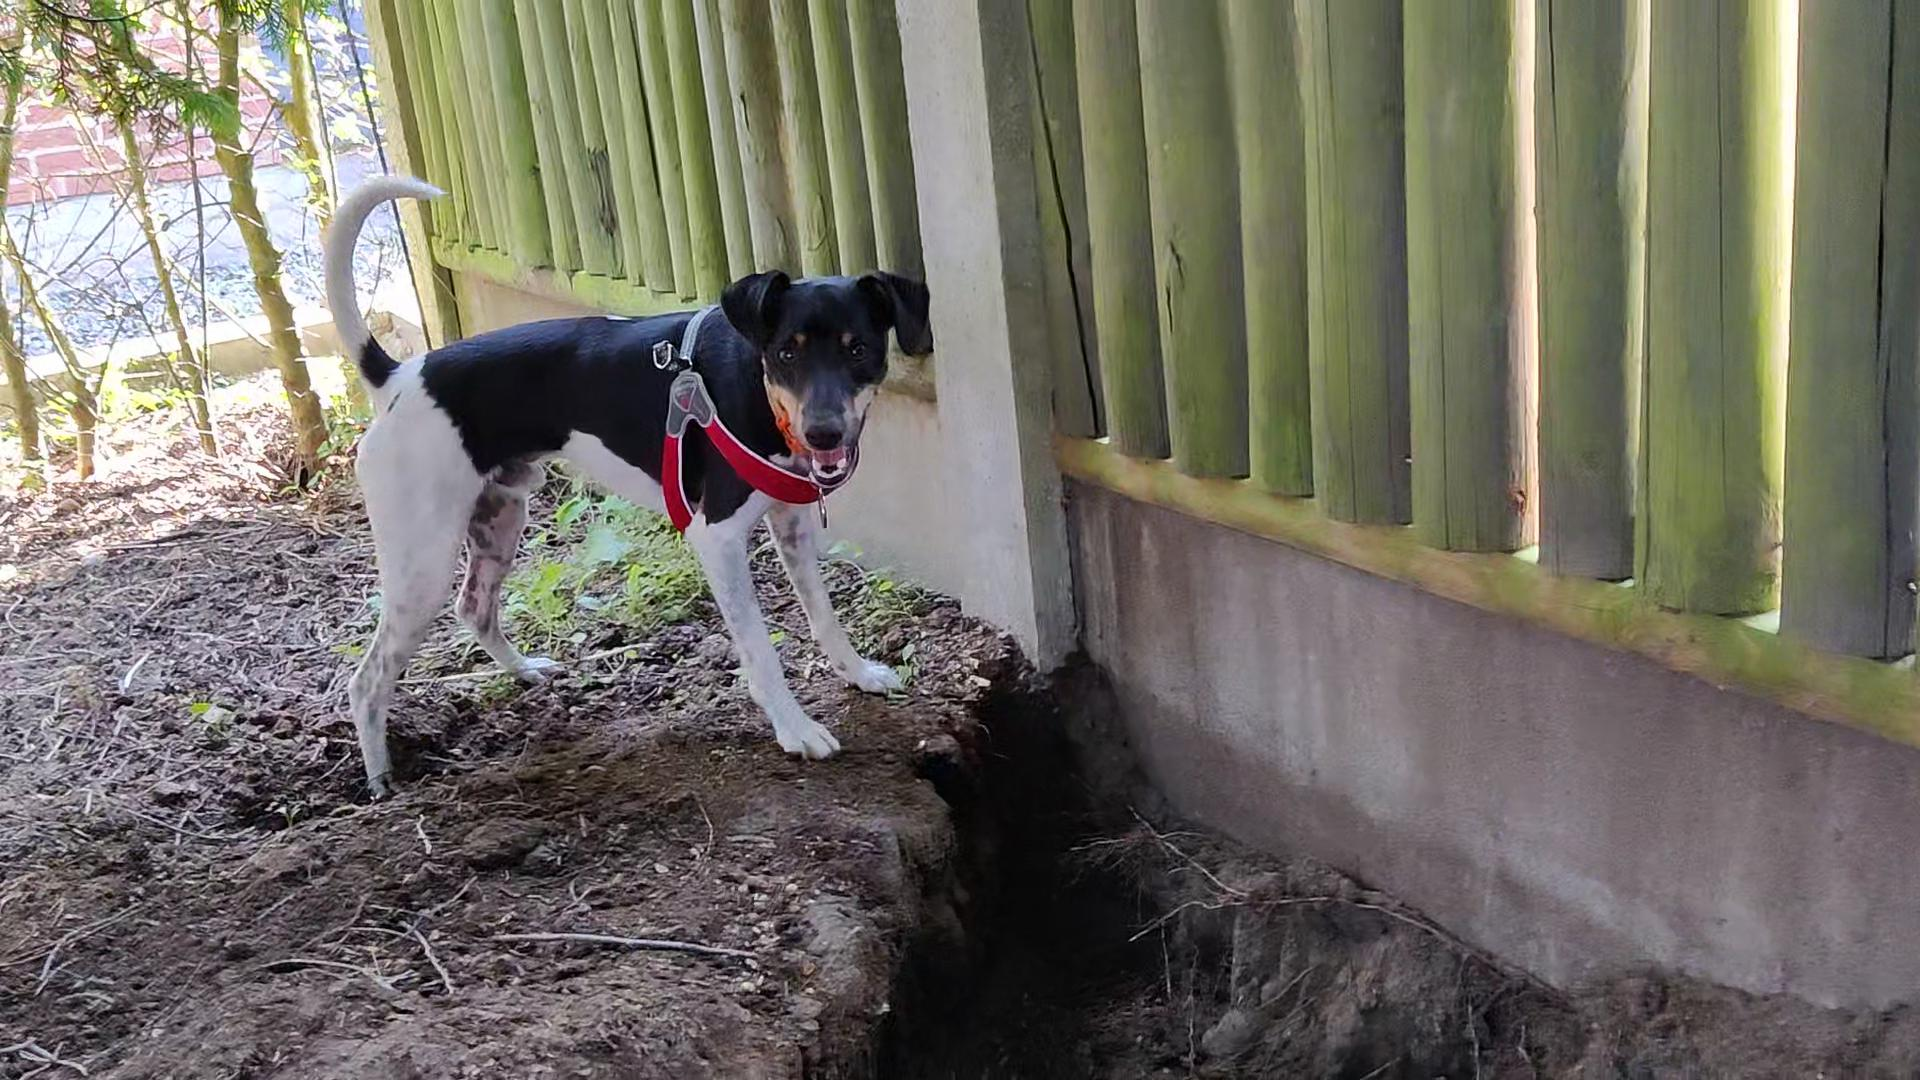Dog: (285, 153, 947, 812)
